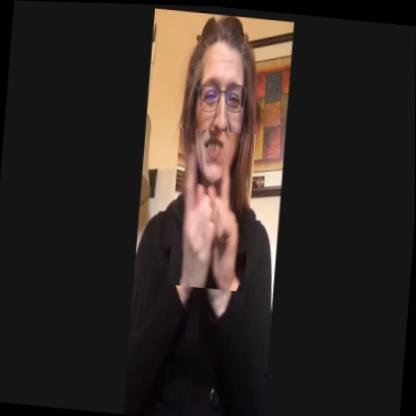NiceToMeetYou: (168, 126, 256, 291)
